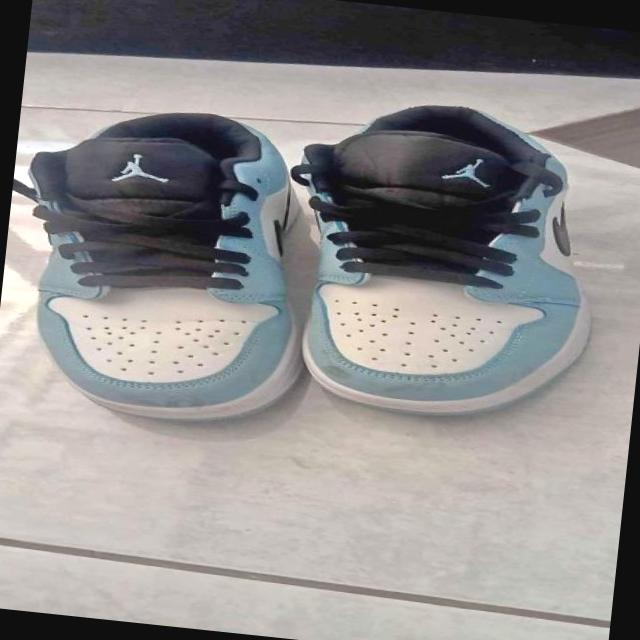nike_fake_jordan: (272, 93, 617, 430), (0, 93, 317, 433)
